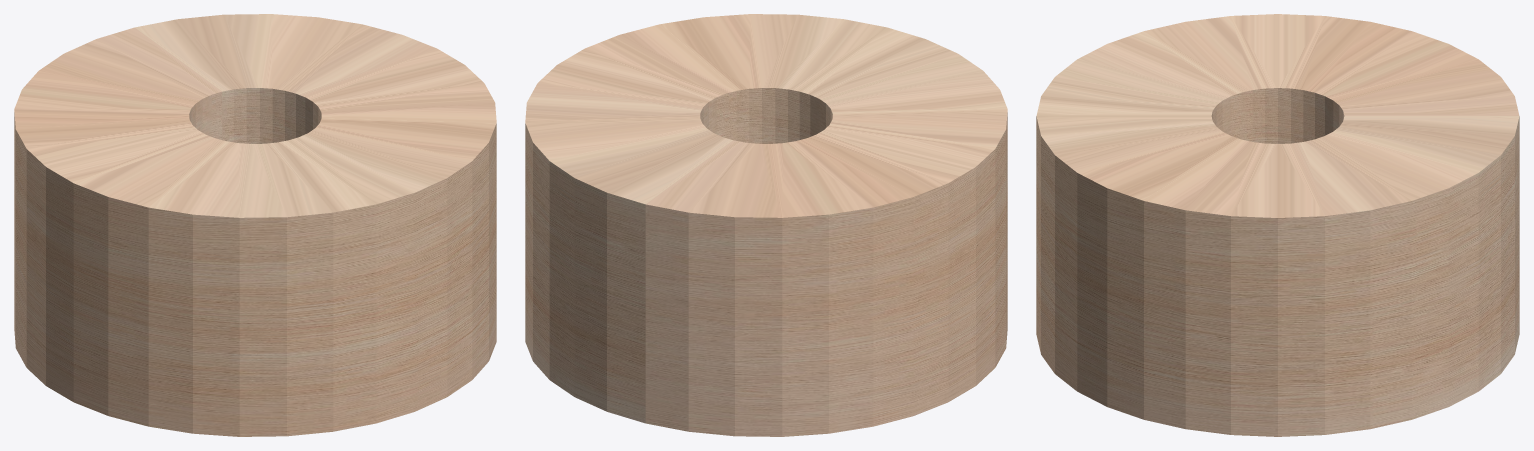
Rendered from 3DConnect4coin.obj.
The picture shows the model from 3 angles, left to right: view 1: azimuth 30°, elevation 25°; view 2: azimuth 150°, elevation 25°; view 3: azimuth 270°, elevation 25°; orthographic projection.
Visible parts, largest first — view 1: Coin_Cylinder.001; view 2: Coin_Cylinder.001; view 3: Coin_Cylinder.001.
Boxes of the visible parts, bbox=[...] form: Coin_Cylinder.001: bbox=[14, 14, 496, 436]; Coin_Cylinder.001: bbox=[525, 14, 1007, 436]; Coin_Cylinder.001: bbox=[1036, 14, 1519, 436].
Bounding box in the file's own units: 0.04 × 0.02 × 0.04.
